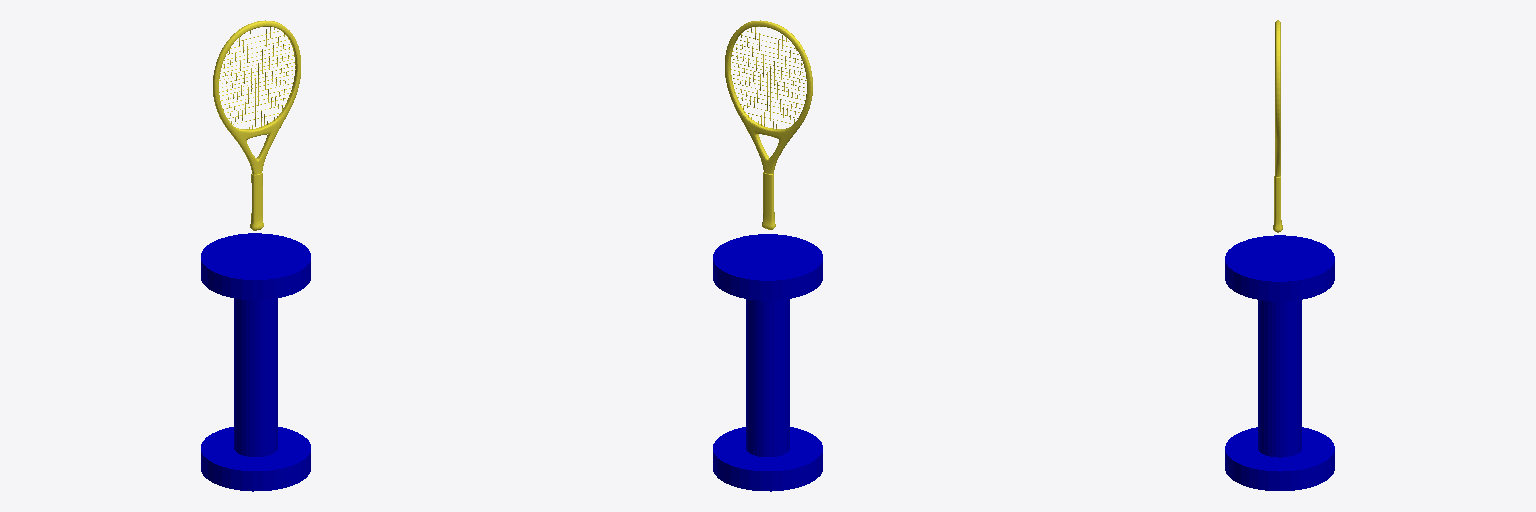
robot.urdf — physics:
<?xml version="1.0"?>
<robot name="physics">
  <link name="base_link">
    <visual>
      <geometry>
        <cylinder length="0.02" radius="0.05"/>
      </geometry>
      <material name="blue">
        <color rgba="0 0 .8 1"/>
      </material>
    </visual>
    <collision>
      <geometry>
        <cylinder length="0.02" radius="0.05"/>
      </geometry>
    </collision>
    <inertial>
      <mass value="0.01"/>
      <inertia ixx="0.000002" ixy="0.0" ixz="0.0" iyy="0.000002" iyz="0.0" izz="0.000002"/>
    </inertial>
  </link>

  <link name="grasp_cylinder">
    <visual>
      <geometry>
        <cylinder length="0.18" radius="0.02"/>
      </geometry>
      <material name="blue">
        <color rgba="0 0 .8 1"/>
      </material>
    </visual>
    <collision>
      <geometry>
        <cylinder length="0.12" radius="0.01"/>
      </geometry>
    </collision>
    <inertial>
      <mass value="0.01"/>
      <inertia ixx="0.000002" ixy="0.0" ixz="0.0" iyy="0.000002" iyz="0.0" izz="0.000002"/>
    </inertial>
  </link>

  <joint name="jfixed1" type="fixed">
    <parent link="base_link"/>
    <child link="grasp_cylinder"/>
    <origin xyz="0 0 0.09"/>
  </joint>


  <link name="top_cylinder">
    <visual>
      <geometry>
        <cylinder length="0.02" radius="0.05"/>
      </geometry>
      <material name="blue">
        <color rgba="0 0 .8 1"/>
      </material>
    </visual>
    <collision>
      <geometry>
        <cylinder length="0.02" radius="0.05"/>
      </geometry>
    </collision>
    <inertial>
      <mass value="0.01"/>
      <inertia ixx="0.000002" ixy="0.0" ixz="0.0" iyy="0.000002" iyz="0.0" izz="0.000002"/>
    </inertial>
  </link>

  <joint name="jfixed2" type="fixed">
    <parent link="grasp_cylinder"/>
    <child link="top_cylinder"/>
    <origin xyz="0 0 0.1"/>
  </joint>

  <link name="raquette_stuff">
    <contact>
      <lateral_friction value="1.0"/>
      <rolling_friction value="0.0"/>
      <contact_cfm value="0.0"/>
      <contact_erp value="1.0"/>
    </contact>
    <inertial>
      <origin rpy="0 0 0" xyz="0.0 0 0.04"/>
       <mass value=".001"/>
       <inertia ixx="1e-9" ixy="0" ixz="0" iyy="1e-9" iyz="0" izz="1e-9"/>
    </inertial>
    <visual>
      <origin rpy="1.57 0 0" xyz="0 0 0.1"/>
      <geometry>
        <mesh filename="Totem_raquette/raquette.obj" scale=".003 .003 .003"/>
      </geometry>
    </visual>
    <collision>
      <origin rpy="1.57 0 0" xyz="0 0 0.1"/>
      <geometry>
	 	<mesh filename="Totem_raquette/raquette.obj" scale=".008 .008 .008"/>
      </geometry>
    </collision>
  </link>

    <joint name="jfixed_stuff" type="fixed">
    <parent link="top_cylinder"/>
    <child link="raquette_stuff"/>
    <origin rpy="0 0 0" xyz="0 0 0.01"/>
  </joint>


</robot>

--- What the picture shows (computed from the rendered views, not written in the file) ---
3 views of the same robot in one strip: view 1: azimuth 30°, elevation 25°; view 2: azimuth 150°, elevation 25°; view 3: azimuth 270°, elevation 25° (orthographic).
Model physics with 4 links and 3 joints (3 fixed), rooted at base_link, posed every joint at zero.
Links seen in each view (by area): view 1: grasp_cylinder, top_cylinder, base_link, raquette_stuff; view 2: grasp_cylinder, top_cylinder, base_link, raquette_stuff; view 3: grasp_cylinder, top_cylinder, base_link, raquette_stuff.
Boxes of the visible links, left/top/right/bottom form: grasp_cylinder: left=234, top=298, right=277, bottom=456; top_cylinder: left=201, top=233, right=310, bottom=299; base_link: left=201, top=427, right=310, bottom=491; raquette_stuff: left=213, top=20, right=300, bottom=230; grasp_cylinder: left=746, top=299, right=789, bottom=456; top_cylinder: left=713, top=234, right=822, bottom=300; base_link: left=713, top=427, right=822, bottom=491; raquette_stuff: left=725, top=20, right=812, bottom=229; grasp_cylinder: left=1258, top=300, right=1301, bottom=457; top_cylinder: left=1225, top=235, right=1334, bottom=301; base_link: left=1225, top=427, right=1334, bottom=490; raquette_stuff: left=1273, top=20, right=1282, bottom=232.
Size in the robot's own frame: 0.1 by 0.1 by 0.4438 metres.
1 mesh visuals loaded from 1 distinct referenced files (1 OBJ).